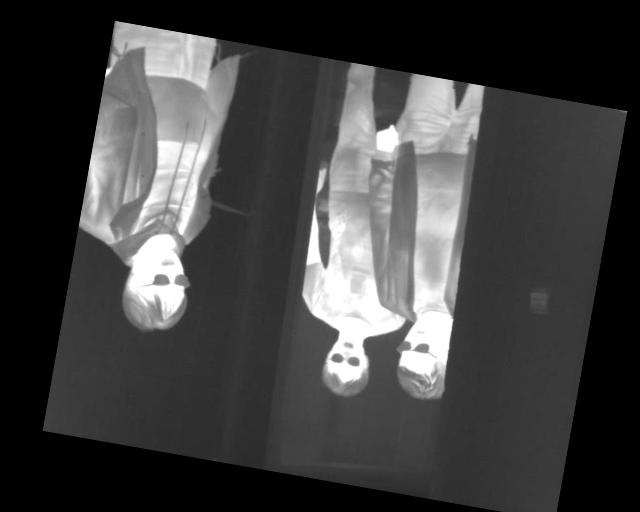face: (116, 242, 194, 339), (390, 312, 455, 403), (317, 329, 375, 401)
